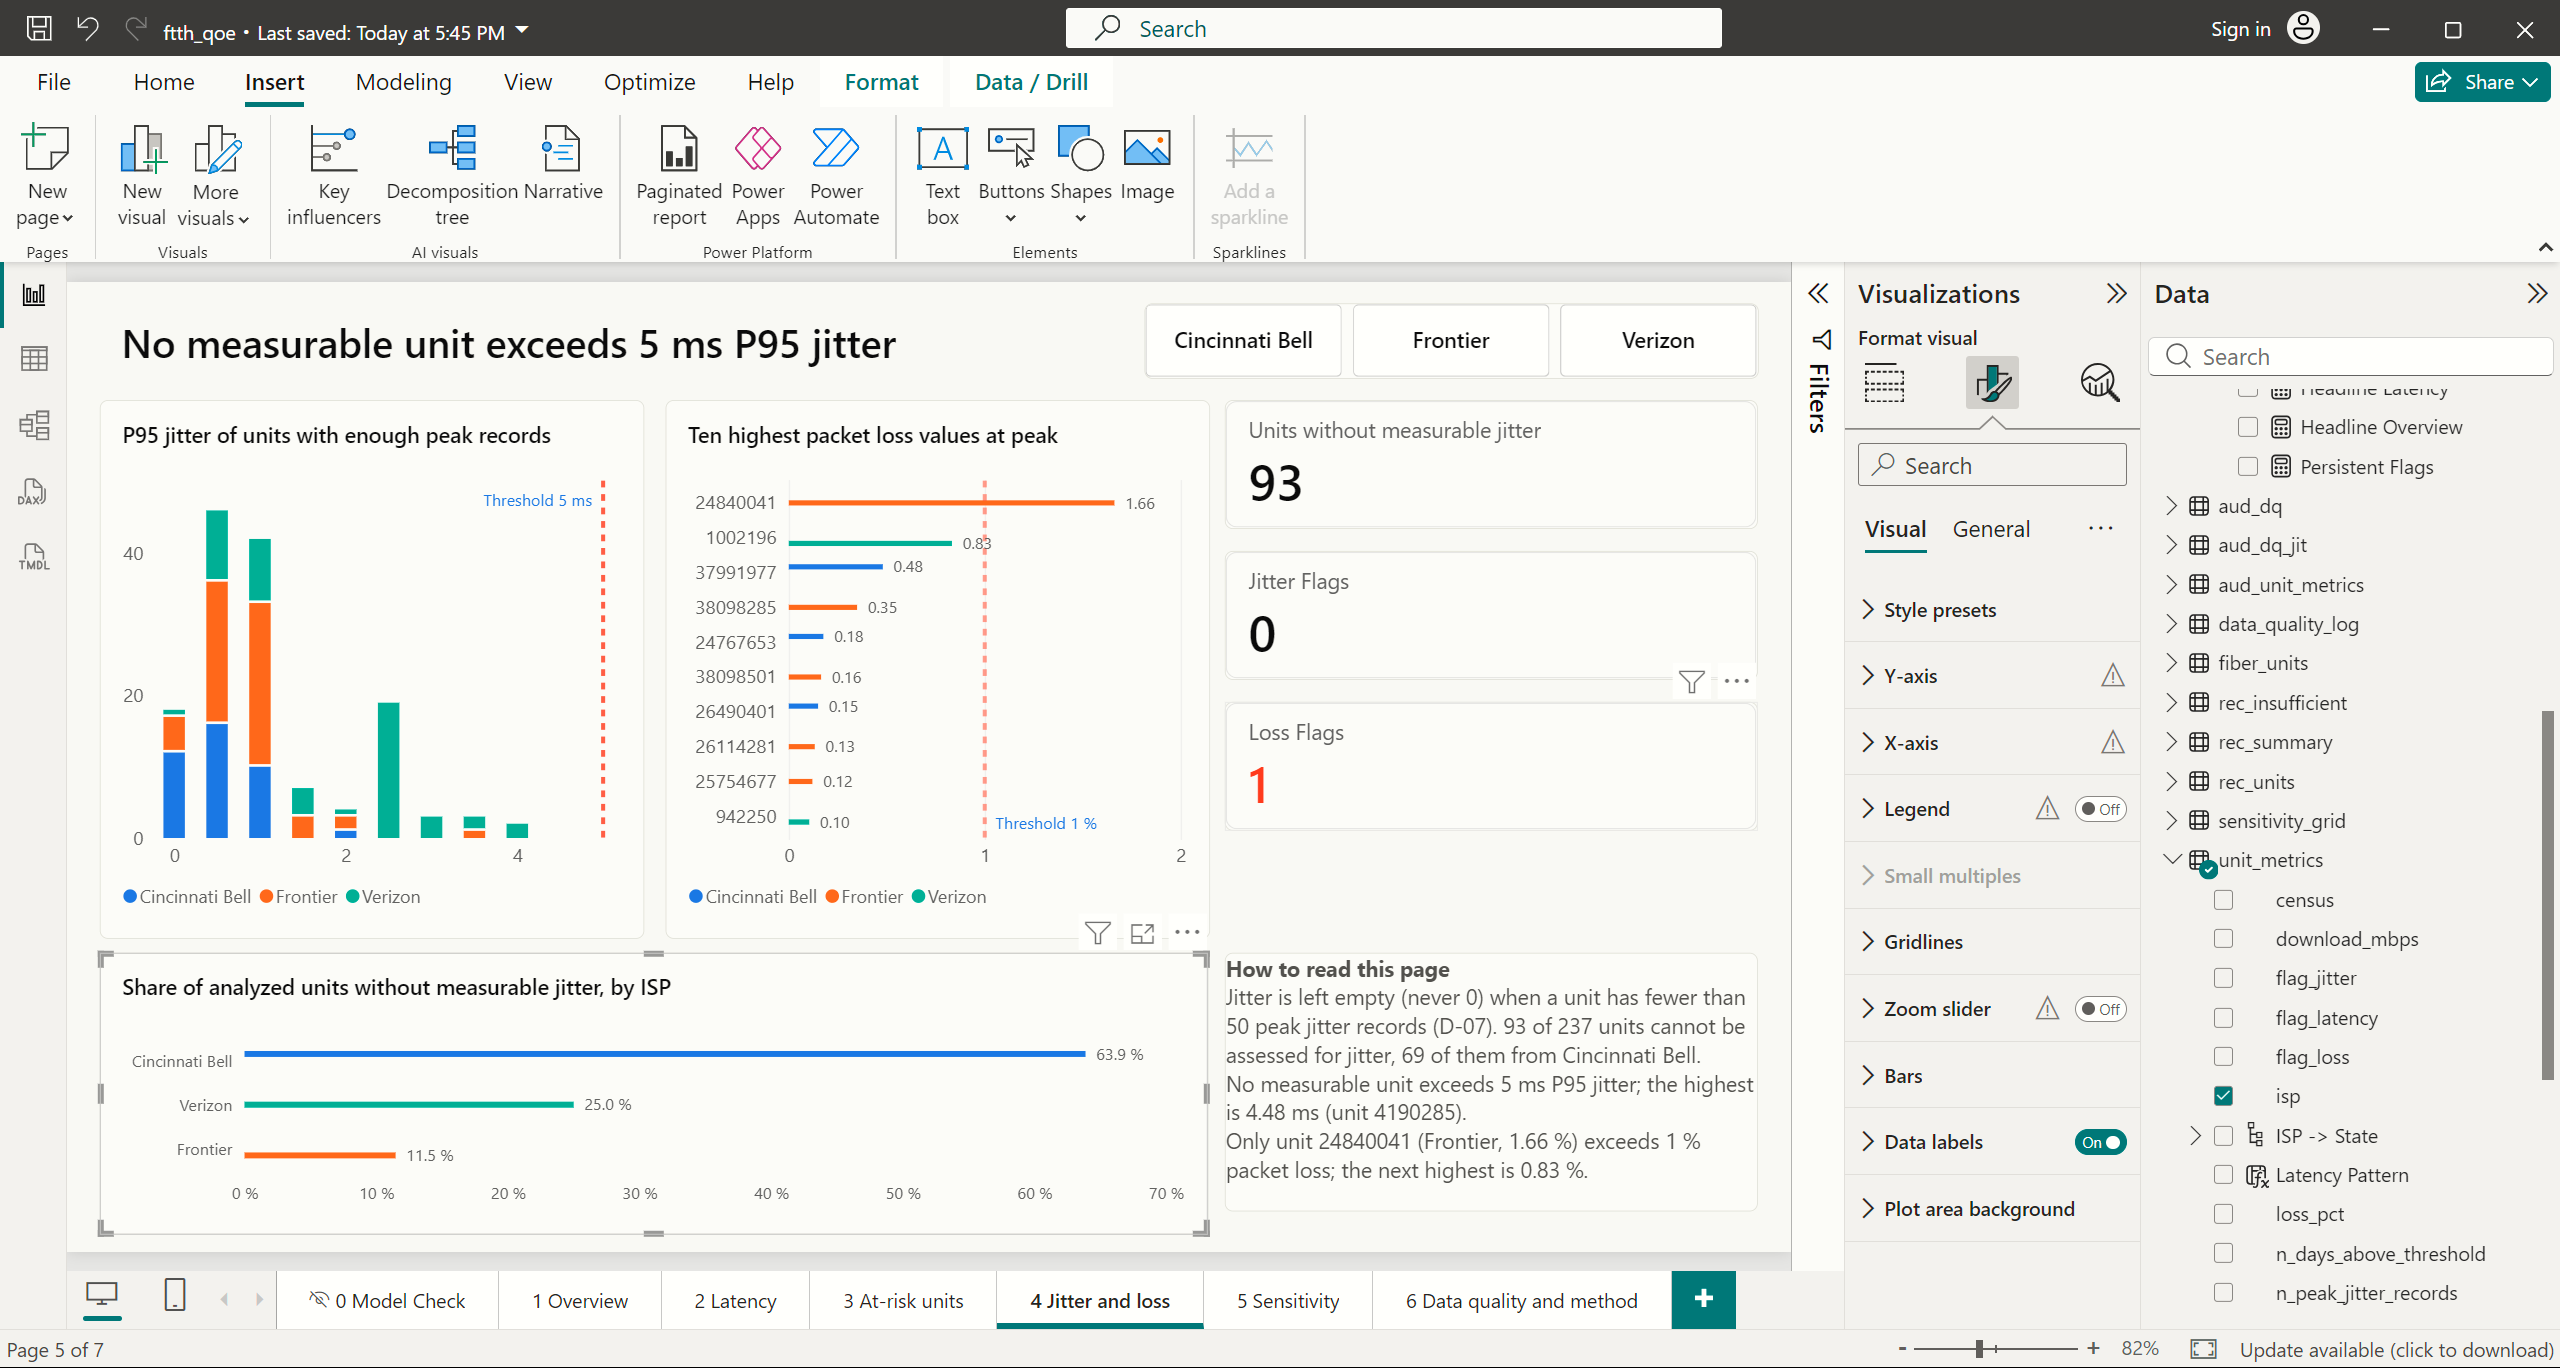

The page's visual inventory and layout, read from the dashboard file:
{"tool":"powerbi","page":{"name":"4 Jitter and loss","canvas":[1280,720],"ordinal":4},"visuals":[{"type":"cardVisual","fields":{"Data":["_Measures.Headline Jitter"]},"box":[24,16,760,56],"z":0},{"type":"advancedSlicerVisual","fields":{"Values":["unit_metrics.isp"]},"box":[800,16,456,56],"z":1},{"type":"clusteredBarChart","title":"Ten highest packet loss values at peak","fields":{"Category":["unit_metrics.unit_id"],"Series":["unit_metrics.isp"],"Y":["Max(unit_metrics.loss_pct)"]},"box":[444,88,404,400],"z":2},{"type":"columnChart","title":"P95 jitter of units with enough peak records","fields":{"Category":["unit_metrics.p95_jitter_ms (bins)"],"Series":["unit_metrics.isp"],"Y":["_Measures.Analyzed Units"]},"box":[24,88,404,400],"z":3},{"type":"clusteredBarChart","title":"Share of analyzed units without measurable jitter, by ISP","fields":{"Category":["unit_metrics.isp"],"Series":["unit_metrics.isp"],"Y":["_Measures.% Null Jitter"]},"box":[24.4,498,823.2,209.4],"z":4},{"type":"cardVisual","fields":{"Data":["_Measures.Units Null Jitter"]},"box":[860,88,396,96],"z":5},{"type":"cardVisual","fields":{"Data":["_Measures.Jitter Flags"]},"box":[860,200,396,96],"z":6},{"type":"cardVisual","fields":{"Data":["_Measures.Loss Flags"]},"box":[860,312,396,96],"z":7},{"type":"textbox","box":[860,498,396,192],"z":8}]}

Visuals, with their boxes on the page's 1280x720 design canvas (x1, y1, x2, y2). These are canvas units, not pixel positions in the 2560x1368 screenshot, which may show the page scaled, cropped or inside an application window:
cardVisual - _Measures.Headline Jitter: <region>24, 16, 784, 72</region>
advancedSlicerVisual - unit_metrics.isp: <region>800, 16, 1256, 72</region>
"Ten highest packet loss values at peak" clusteredBarChart: <region>444, 88, 848, 488</region>
"P95 jitter of units with enough peak records" columnChart: <region>24, 88, 428, 488</region>
"Share of analyzed units without measurable jitter, by ISP" clusteredBarChart: <region>24, 498, 848, 707</region>
cardVisual - _Measures.Units Null Jitter: <region>860, 88, 1256, 184</region>
cardVisual - _Measures.Jitter Flags: <region>860, 200, 1256, 296</region>
cardVisual - _Measures.Loss Flags: <region>860, 312, 1256, 408</region>
textbox: <region>860, 498, 1256, 690</region>
